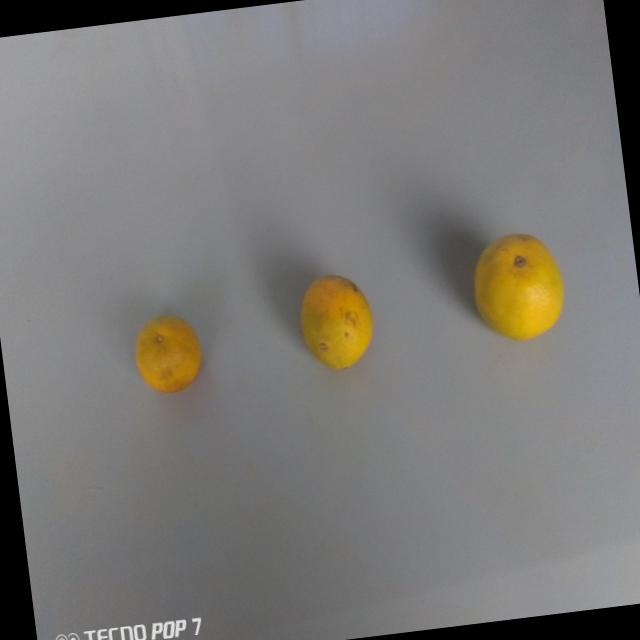Ripe orange: (462, 225, 578, 350), (291, 264, 384, 380), (126, 300, 207, 403)
